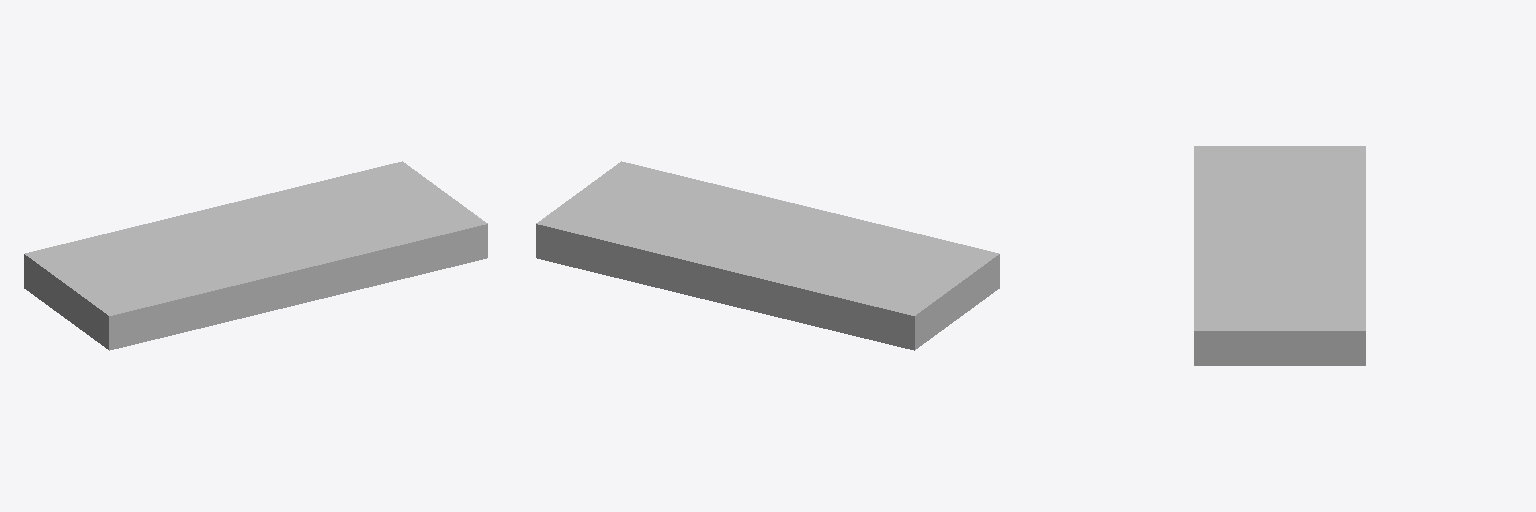
Rendered from Led Light.obj.
3 renders of one model, left to right at view 1: azimuth 30°, elevation 25°; view 2: azimuth 150°, elevation 25°; view 3: azimuth 270°, elevation 25°, orthographic.
Parts seen in each view (by area): view 1: object 1; view 2: object 1; view 3: object 1.
Part boxes in pixels (x1,y1,x2,y2): object 1: (24, 161, 487, 350); object 1: (536, 161, 999, 350); object 1: (1194, 146, 1365, 365).
Bounding box in the file's own units: 2.3 × 0.2 × 0.9.